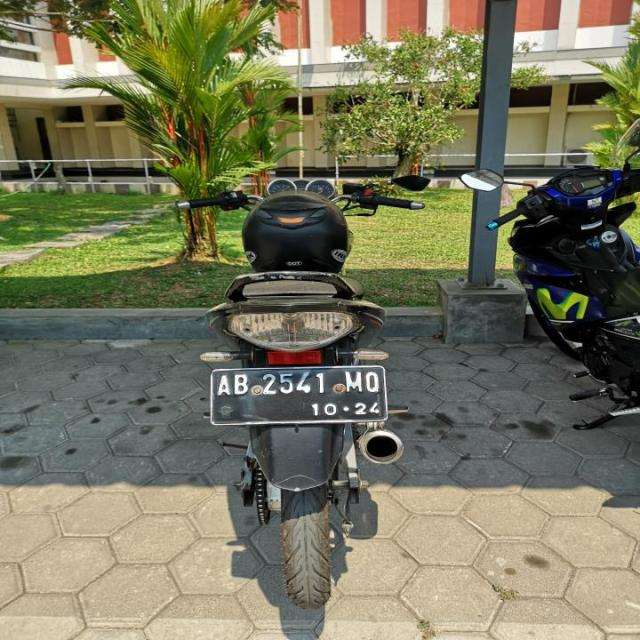License Plate: (204, 361, 390, 427)
